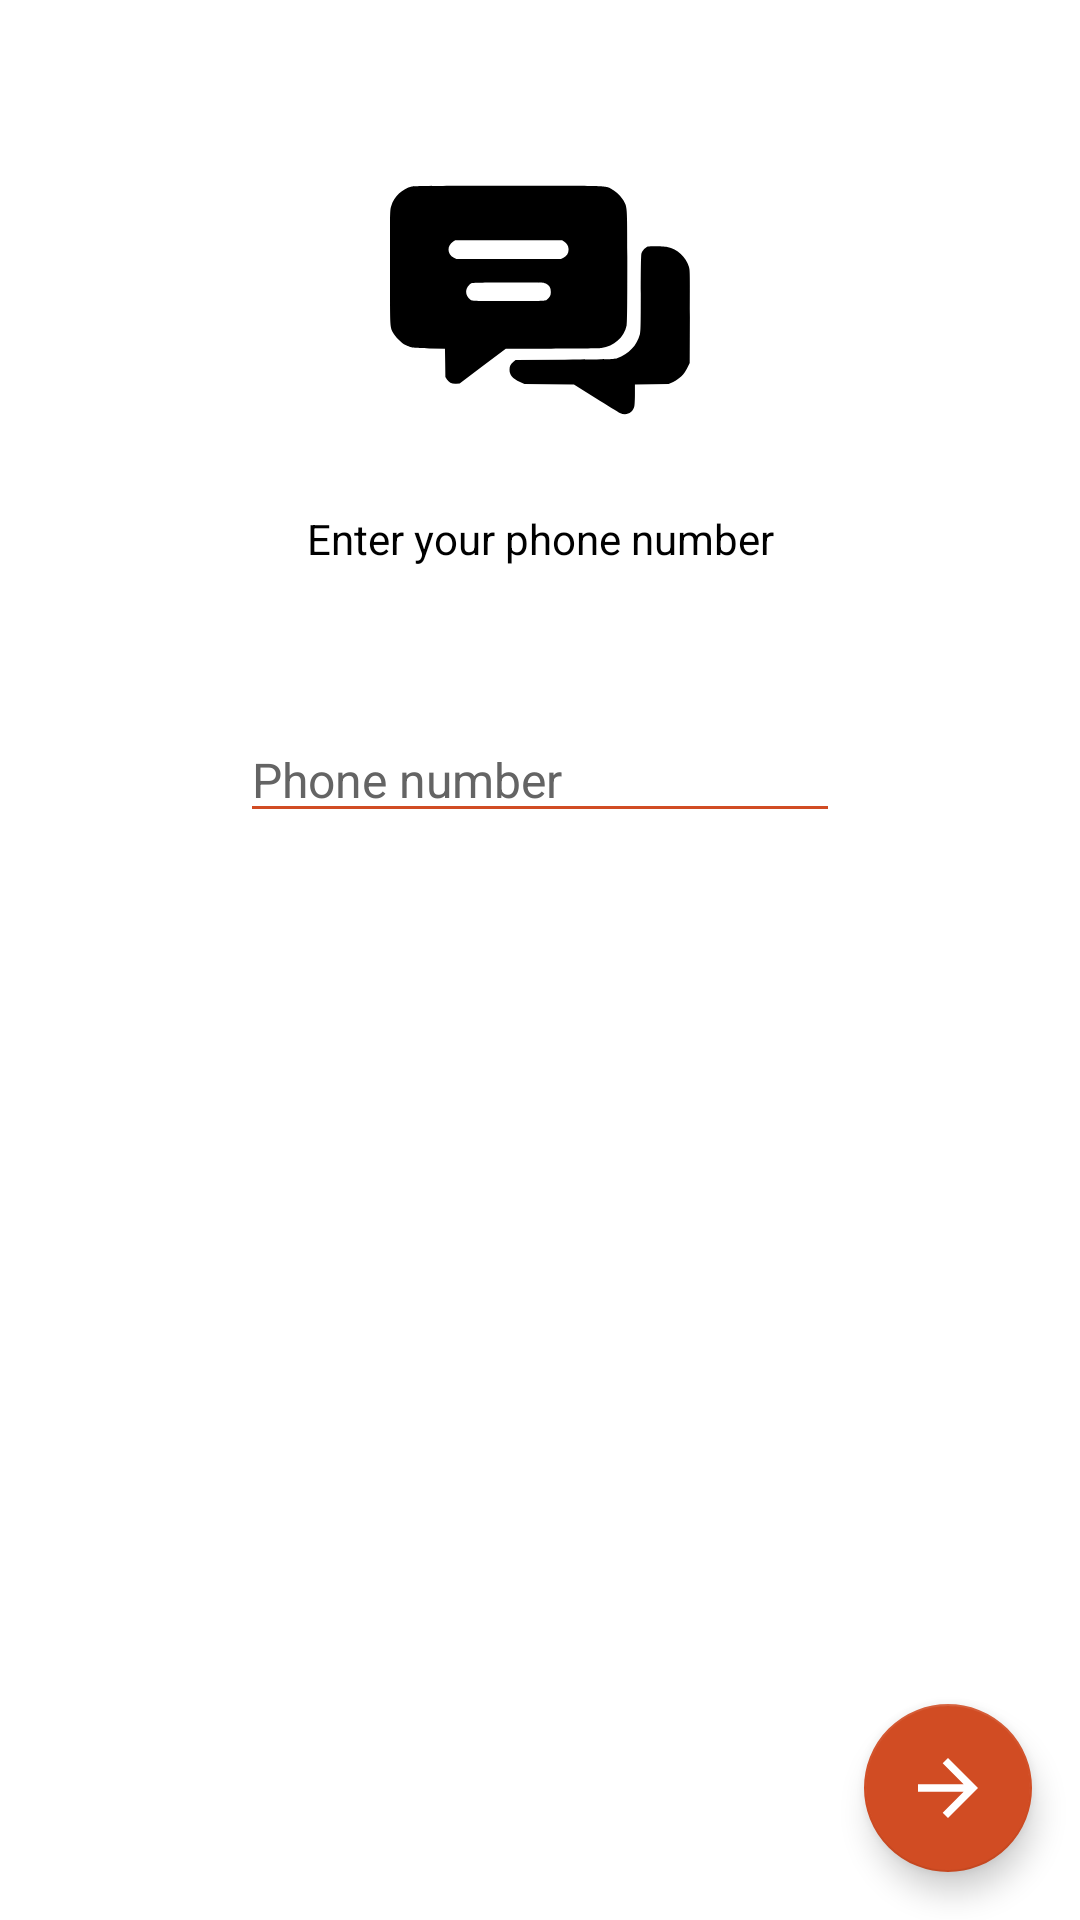

Where icons sit on this 1080px x 1920px app screen, as [x1, y1, x2, y2]:
arrow next: [864, 1704, 1032, 1872]
messenger: [390, 185, 690, 415]
